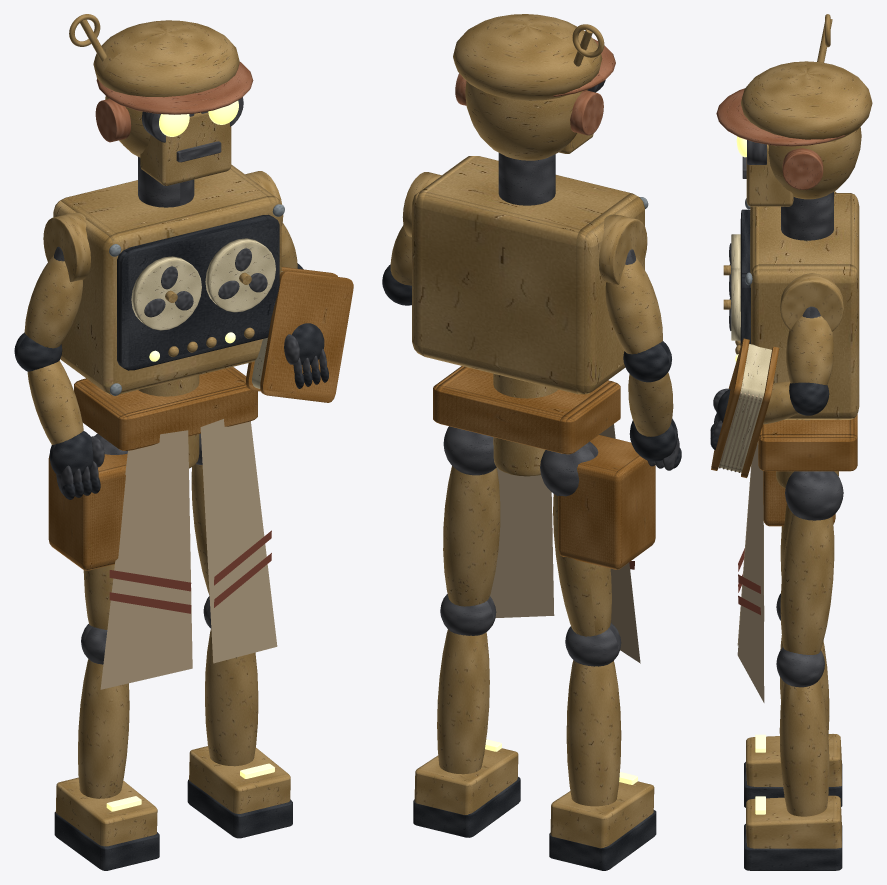
Rendered from morrow.glb.
3 renders of one model, left to right at view 1: azimuth 30°, elevation 25°; view 2: azimuth 150°, elevation 25°; view 3: azimuth 270°, elevation 25°, orthographic. The views are drawn at different scales.
Visible parts, largest first — view 1: Fitted hardware of Morrow | identity, Fitted hardware of CastHead.001, Fitted hardware of PivotLegL.001, Fitted hardware of PivotLegR.001, Fitted hardware of PivotArmL.001, Fitted hardware of Herd archive book, Fitted hardware of ReelSpindleR, Fitted hardware of ReelSpindleL, Fitted hardware of PivotArmR.001; view 2: Fitted hardware of Morrow | identity, Fitted hardware of PivotLegR.001, Fitted hardware of PivotLegL.001, Fitted hardware of CastHead.001, Fitted hardware of PivotArmL.001, Fitted hardware of PivotArmR.001; view 3: Fitted hardware of Morrow | identity, Fitted hardware of PivotLegR.001, Fitted hardware of CastHead.001, Fitted hardware of PivotArmR.001, Fitted hardware of Herd archive book, Fitted hardware of PivotLegL.001, Fitted hardware of ReelSpindleR, Fitted hardware of ReelSpindleL.
Part boxes in pixels (left/top/right/bottom): Fitted hardware of Morrow | identity: left=48, top=157, right=284, bottom=689; Fitted hardware of CastHead.001: left=69, top=14, right=253, bottom=185; Fitted hardware of PivotLegL.001: left=54, top=433, right=159, bottom=870; Fitted hardware of PivotLegR.001: left=187, top=433, right=292, bottom=838; Fitted hardware of PivotArmL.001: left=14, top=212, right=104, bottom=499; Fitted hardware of Herd archive book: left=245, top=267, right=353, bottom=402; Fitted hardware of ReelSpindleR: left=205, top=238, right=275, bottom=312; Fitted hardware of ReelSpindleL: left=131, top=256, right=201, bottom=330; Fitted hardware of PivotArmR.001: left=245, top=171, right=328, bottom=388; Fitted hardware of Morrow | identity: left=412, top=153, right=655, bottom=663; Fitted hardware of PivotLegR.001: left=413, top=426, right=520, bottom=837; Fitted hardware of PivotLegL.001: left=540, top=441, right=656, bottom=870; Fitted hardware of CastHead.001: left=453, top=14, right=615, bottom=160; Fitted hardware of PivotArmL.001: left=599, top=214, right=681, bottom=470; Fitted hardware of PivotArmR.001: left=382, top=172, right=441, bottom=305; Fitted hardware of Morrow | identity: left=735, top=192, right=859, bottom=702; Fitted hardware of PivotLegR.001: left=744, top=471, right=843, bottom=870; Fitted hardware of CastHead.001: left=716, top=14, right=872, bottom=206; Fitted hardware of PivotArmR.001: left=710, top=273, right=843, bottom=450; Fitted hardware of Herd archive book: left=711, top=338, right=779, bottom=477; Fitted hardware of PivotLegL.001: left=744, top=503, right=842, bottom=807; Fitted hardware of ReelSpindleR: left=723, top=268, right=740, bottom=340; Fitted hardware of ReelSpindleL: left=723, top=234, right=740, bottom=283.
Bounding box in the file's own units: 0.7165 × 1.91 × 0.3591.
Materials: 10 (9 with a texture image).
